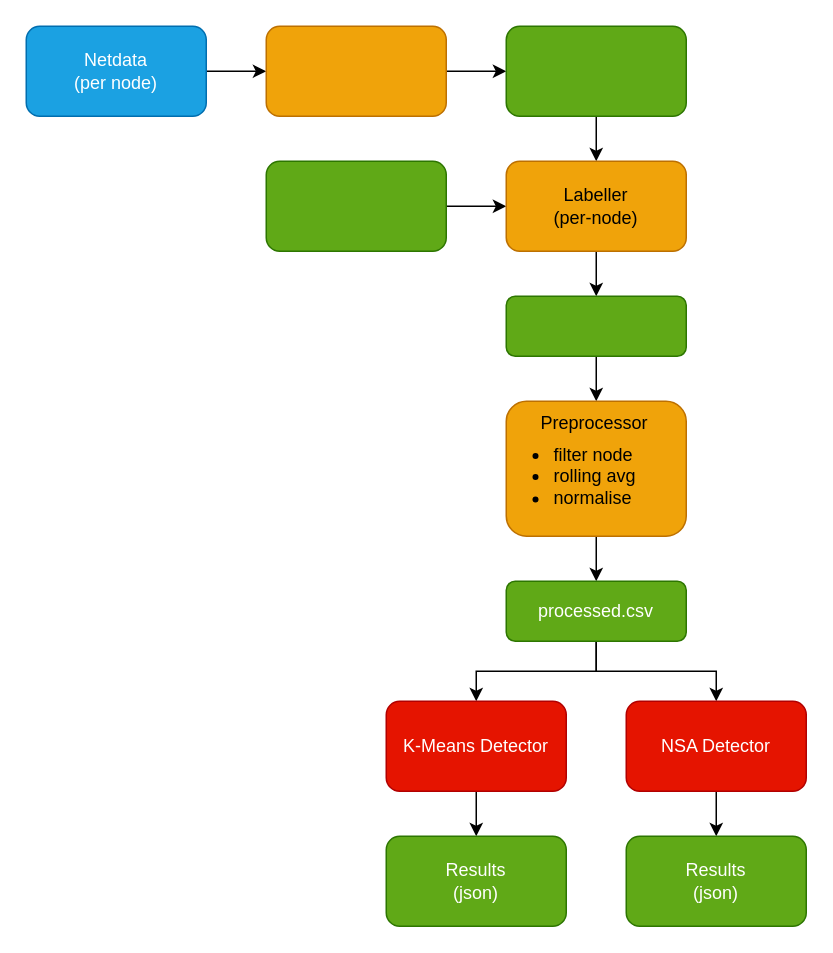
Image size: 833x953. Some labels were removed from this diagram. The centre of each missing label's shape, as x and y in pixels:
Collector (1s poll): (355,70)
dataset.csv (raw): (595,70)
labelled.csv: (595,325)
phases.json (timestamps): (355,205)
